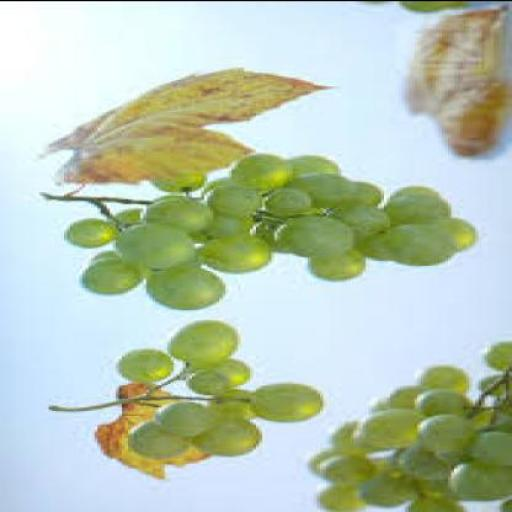biodegradable: (64, 150, 475, 308), (311, 340, 509, 510), (28, 68, 326, 179), (116, 318, 320, 456), (408, 6, 509, 153), (92, 384, 207, 476), (280, 210, 360, 254), (112, 223, 186, 263), (387, 219, 454, 261), (146, 270, 223, 305), (256, 382, 322, 420), (396, 186, 448, 234), (192, 234, 262, 269), (448, 460, 510, 498), (140, 196, 201, 234), (195, 420, 265, 452), (128, 420, 190, 455), (174, 321, 232, 358), (360, 227, 426, 258), (112, 347, 170, 382), (280, 174, 354, 201), (353, 408, 415, 440), (238, 220, 299, 251), (326, 201, 387, 232), (229, 153, 283, 188), (202, 181, 256, 215), (80, 262, 144, 288), (424, 416, 472, 449), (156, 401, 207, 432), (323, 424, 375, 454), (280, 153, 338, 179), (338, 179, 380, 214), (421, 363, 463, 398), (464, 426, 506, 460), (61, 215, 110, 244), (311, 249, 360, 278), (320, 454, 374, 480), (370, 461, 424, 487), (384, 386, 438, 412), (262, 189, 320, 213), (204, 387, 250, 417), (359, 480, 411, 506), (415, 390, 466, 416), (429, 214, 469, 246), (314, 483, 365, 507), (390, 444, 430, 473), (421, 464, 454, 498), (198, 213, 244, 237), (402, 493, 463, 510), (192, 363, 244, 382), (362, 1, 476, 9), (184, 372, 226, 391), (369, 399, 411, 418), (430, 444, 472, 461), (304, 452, 336, 474), (482, 374, 509, 400), (482, 340, 509, 366), (110, 208, 146, 225), (472, 410, 509, 426), (497, 498, 509, 511)
